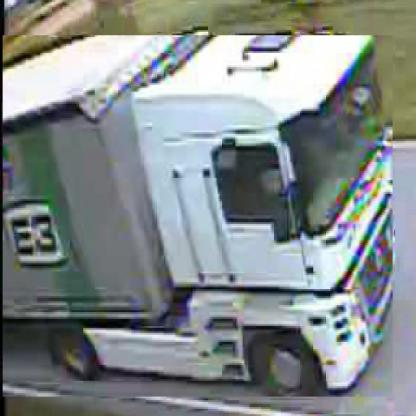container: (3, 37, 395, 400)
